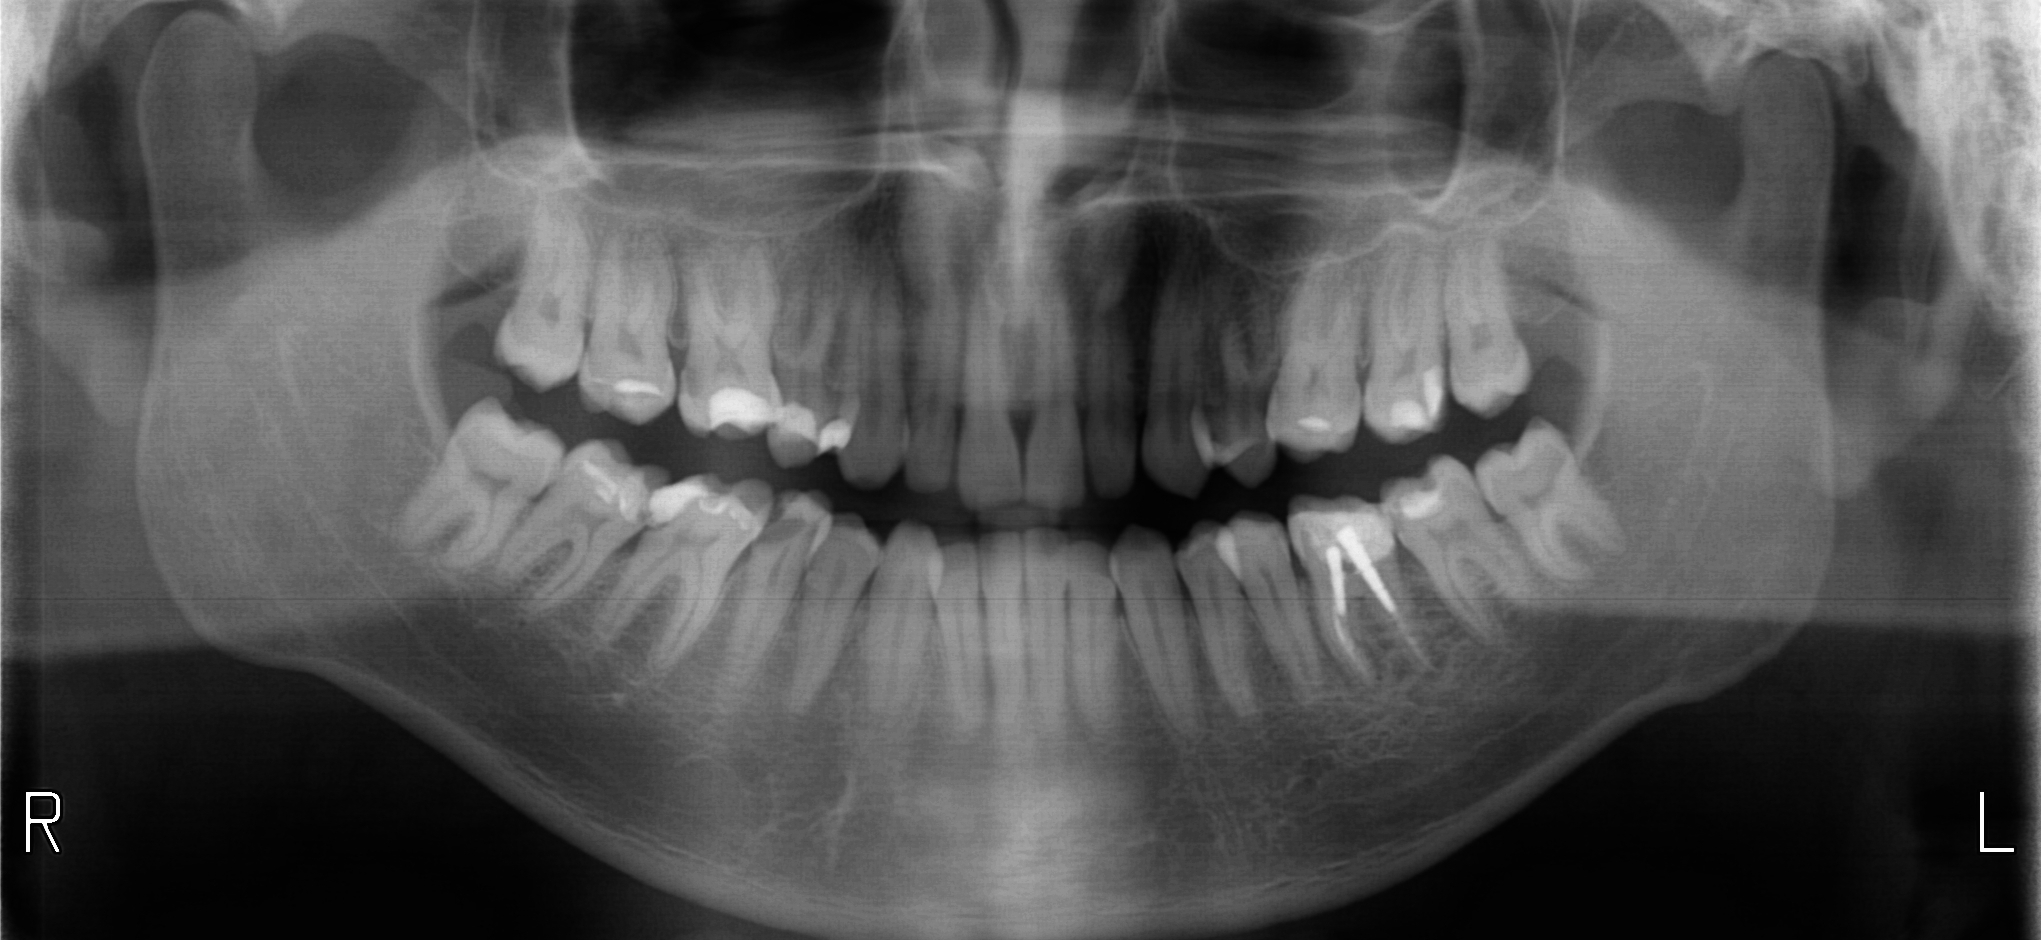cavity: (758, 519, 804, 544), (1388, 514, 1399, 523), (1173, 581, 1177, 590), (525, 495, 526, 497)
